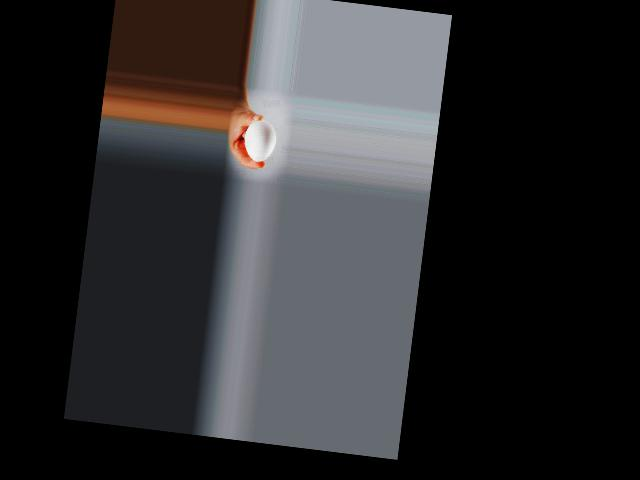egg: (241, 119, 277, 163)
